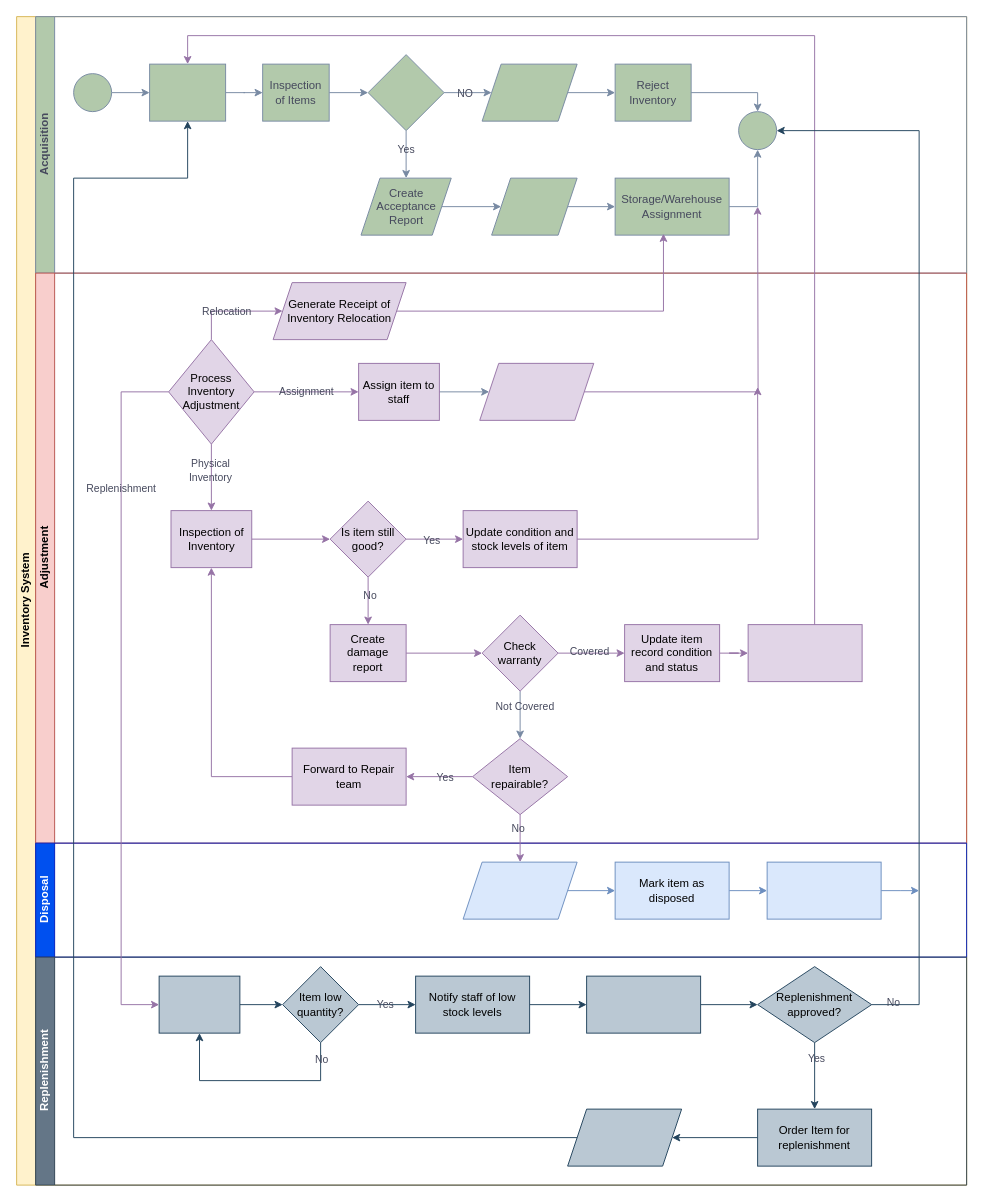
Some shapes in this 983 by 1202 pixel diagram are drawn without their labels. The box of each missing label's shape, as (x1, y1, x2, y2) in pixels:
Create Disposal Report: (462, 861, 577, 919)
Create order status report: (481, 63, 577, 121)
End: (738, 111, 777, 150)
Forward to disposal Team: (766, 861, 881, 919)
Generate Memorandum Receipt: (479, 362, 594, 420)
Generate order report: (567, 1108, 682, 1166)
Incomming Items: (149, 63, 226, 121)
Initiate communication with supplier for return/replacement: (747, 624, 862, 682)
Item as ordered?: (367, 54, 444, 131)
Print Inventory Tag: (491, 177, 577, 235)
Real-time Item quantity monitoring: (158, 975, 240, 1033)
Request item replenishment: (586, 975, 701, 1033)
Start: (73, 73, 112, 112)
